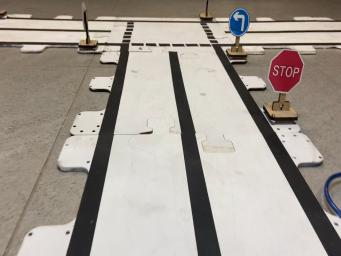left: (226, 8, 250, 63), (226, 8, 250, 63), (226, 8, 250, 63), (226, 8, 250, 63), (226, 8, 250, 63), (226, 8, 250, 63)
stop: (263, 50, 304, 122), (263, 50, 304, 122), (263, 50, 304, 122), (263, 50, 304, 122), (263, 50, 304, 122), (263, 50, 304, 122)
street: (68, 20, 341, 255), (68, 20, 341, 255), (68, 20, 341, 255), (68, 20, 341, 255), (68, 20, 341, 255), (68, 20, 341, 255), (240, 21, 341, 45), (240, 21, 341, 45), (240, 21, 341, 45), (240, 21, 341, 45), (240, 21, 341, 45), (240, 21, 341, 45), (0, 19, 85, 44), (0, 19, 85, 44), (0, 19, 85, 44), (0, 19, 85, 44), (0, 19, 85, 44), (0, 19, 85, 44)
